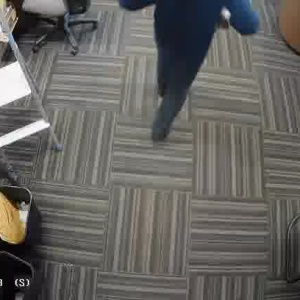person: (139, 0, 249, 131)
